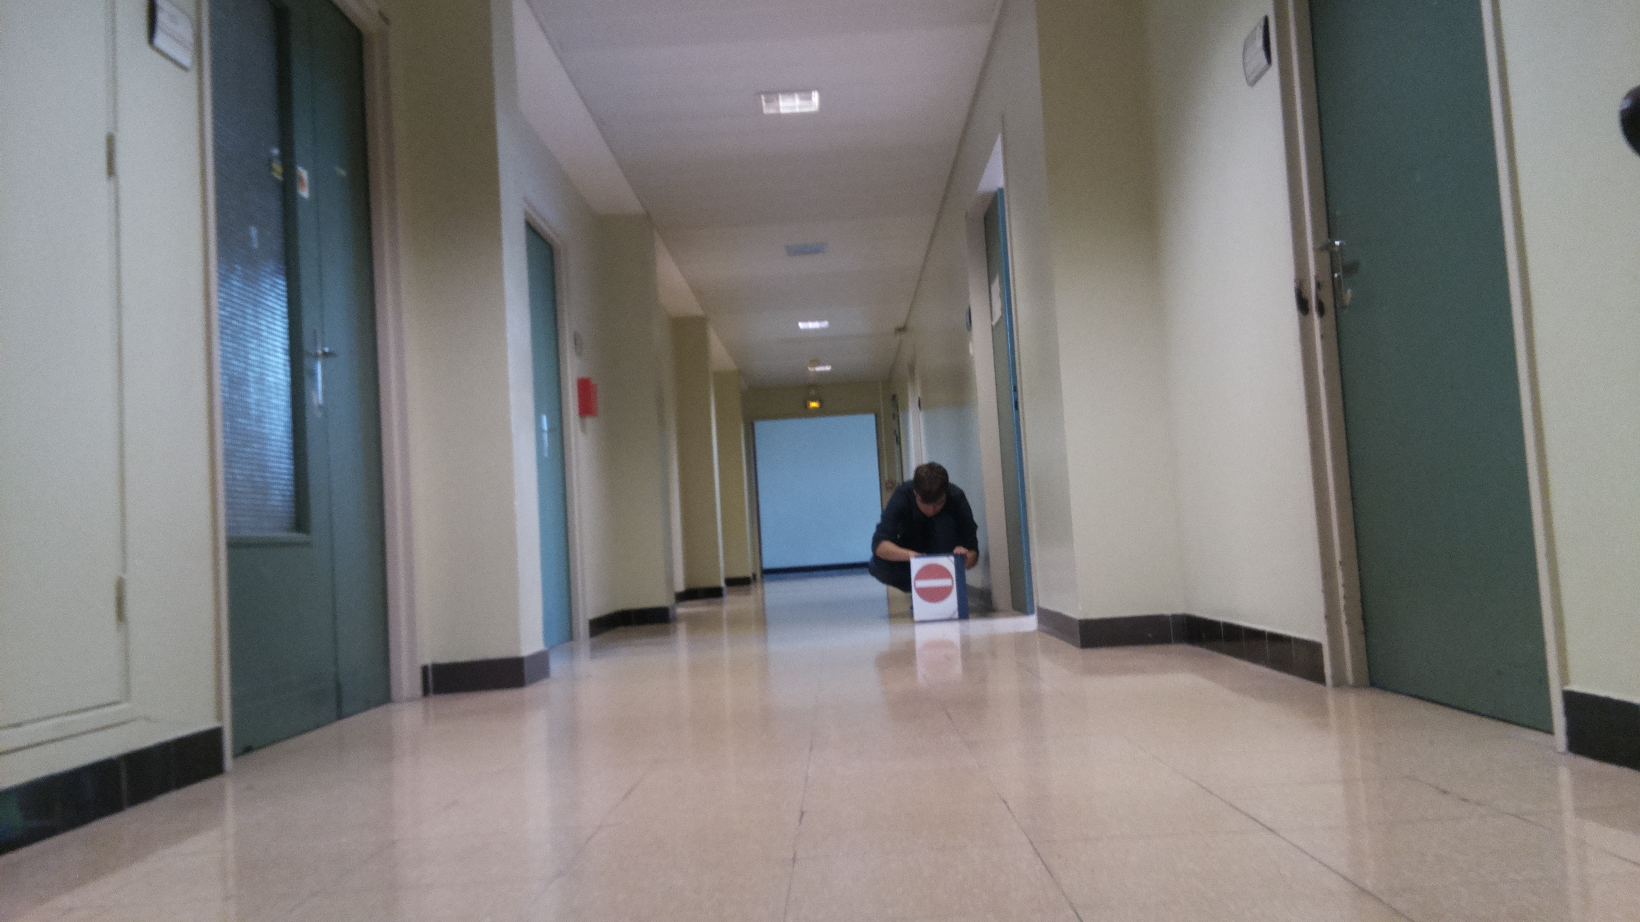prohibited: (913, 563, 954, 603)
